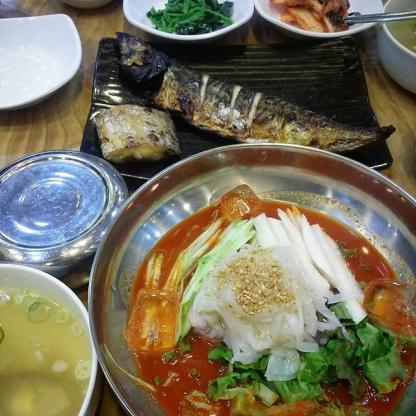Peixe: (110, 36, 386, 164)
